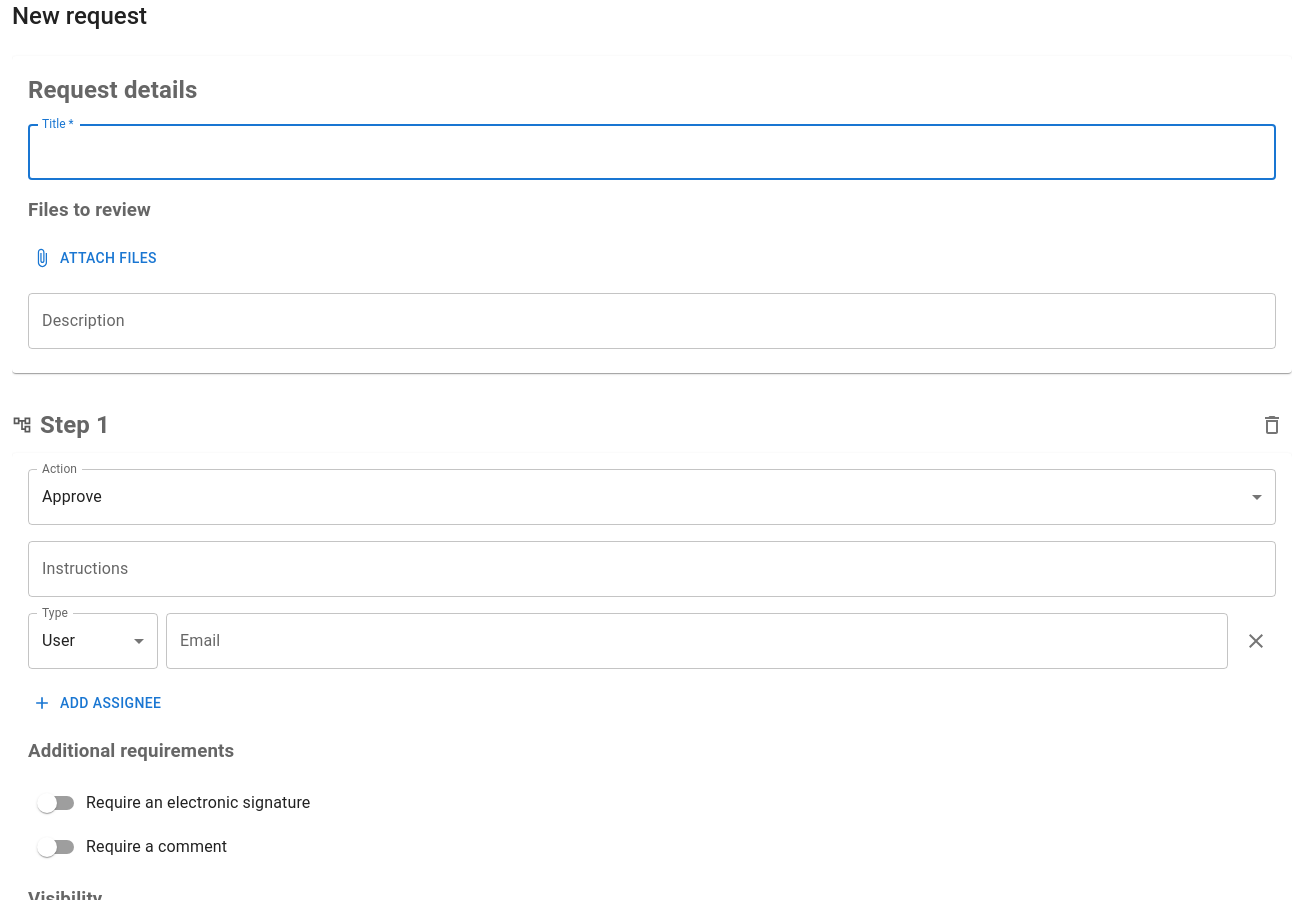
shared templates › custom requests create private templates and show name conflicts beside Title without overwriting
In the field labelled "Title *": {"x": 652, "y": 152} [28,124,1276,180], type "Review workflow"
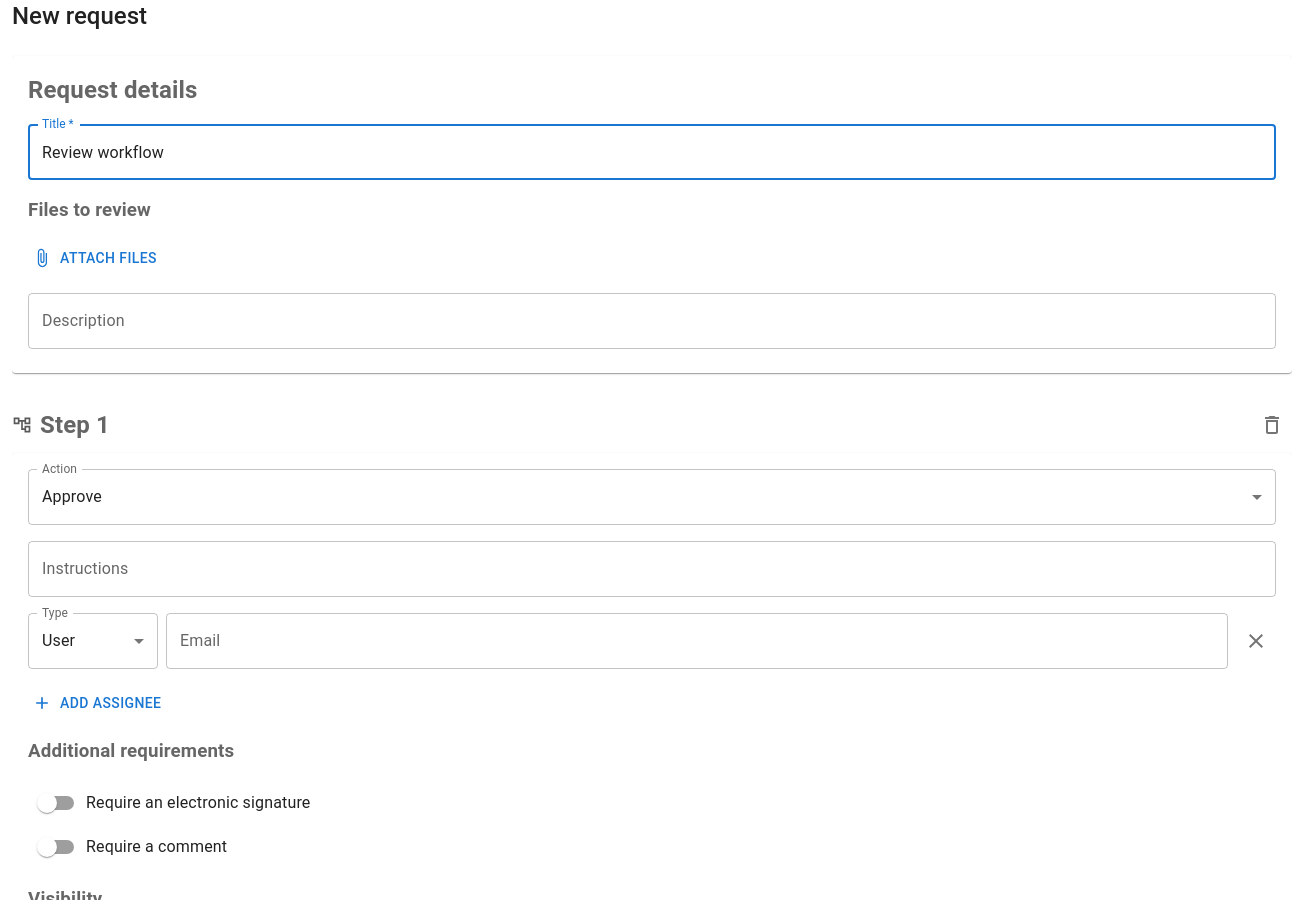
In the field labelled "Email": {"x": 697, "y": 641} [166,613,1228,669], type "reviewer@example.com"
(page scrolled)
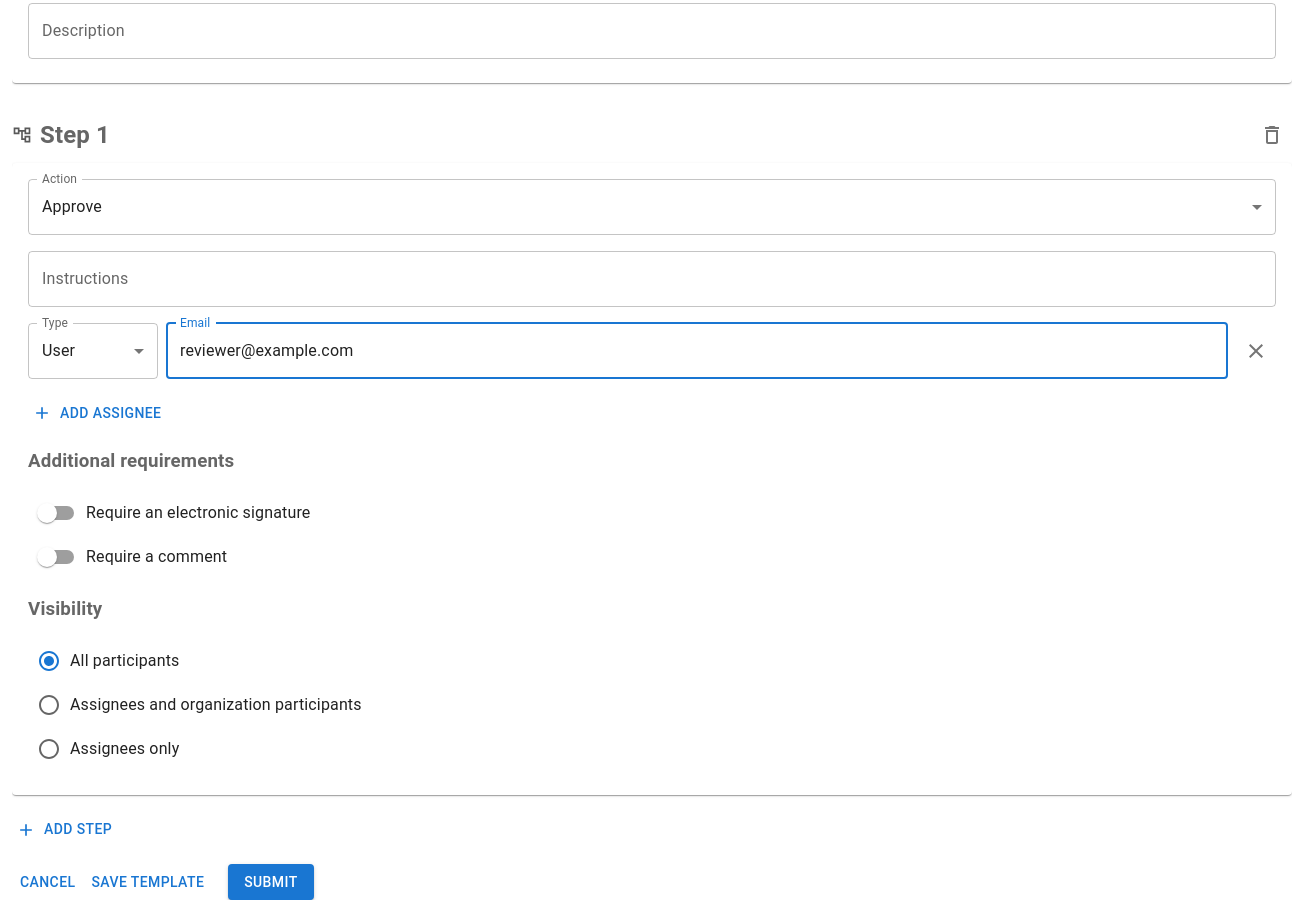
Click the button "Save template": {"x": 148, "y": 882} [84,864,212,899]
(page scrolled)
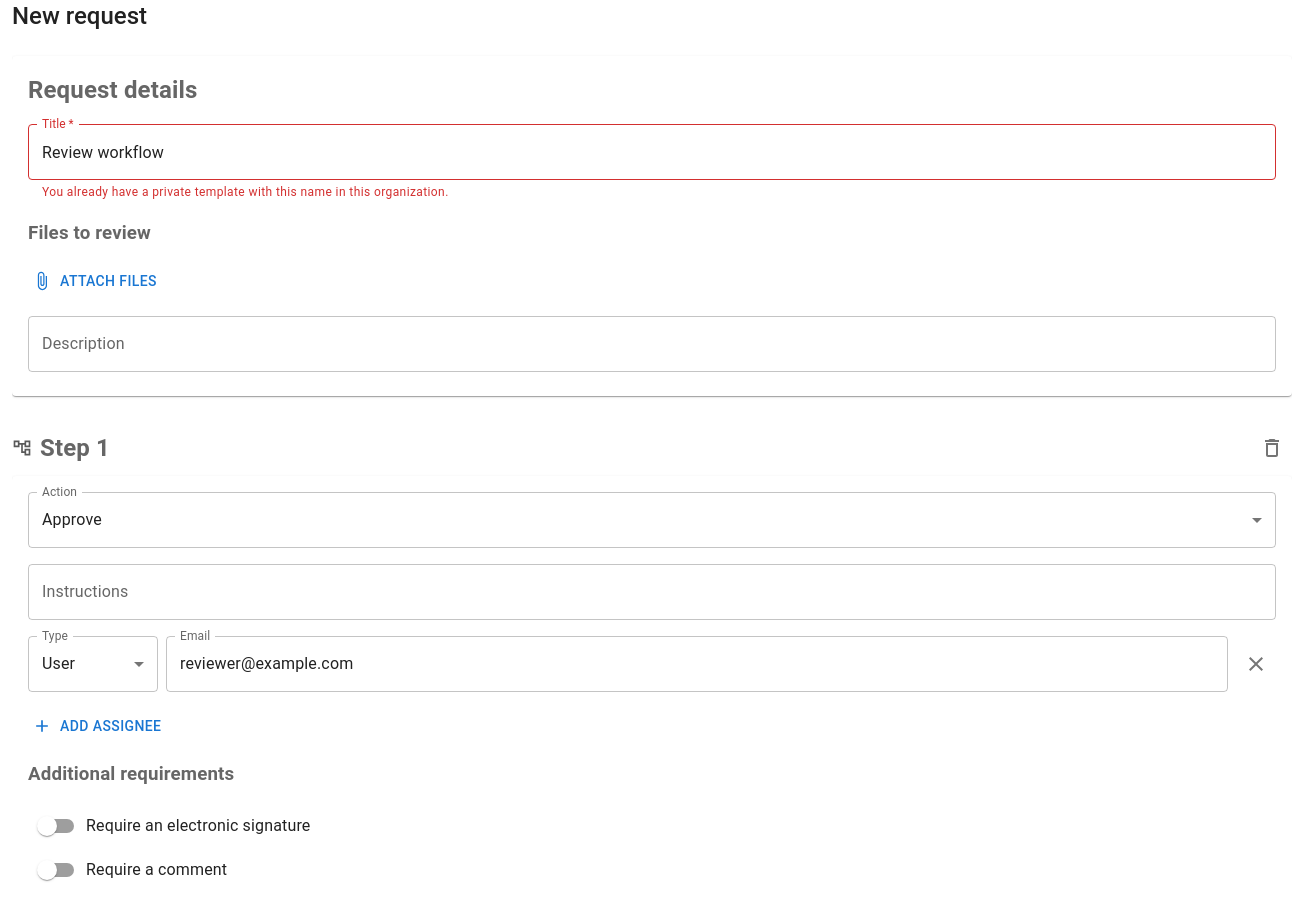
Check: the text "You already have a private template with this name in this organization." is shown, box [42,185,449,199]
In the field labelled "Title *": {"x": 652, "y": 152} [28,124,1276,180], type " revised"
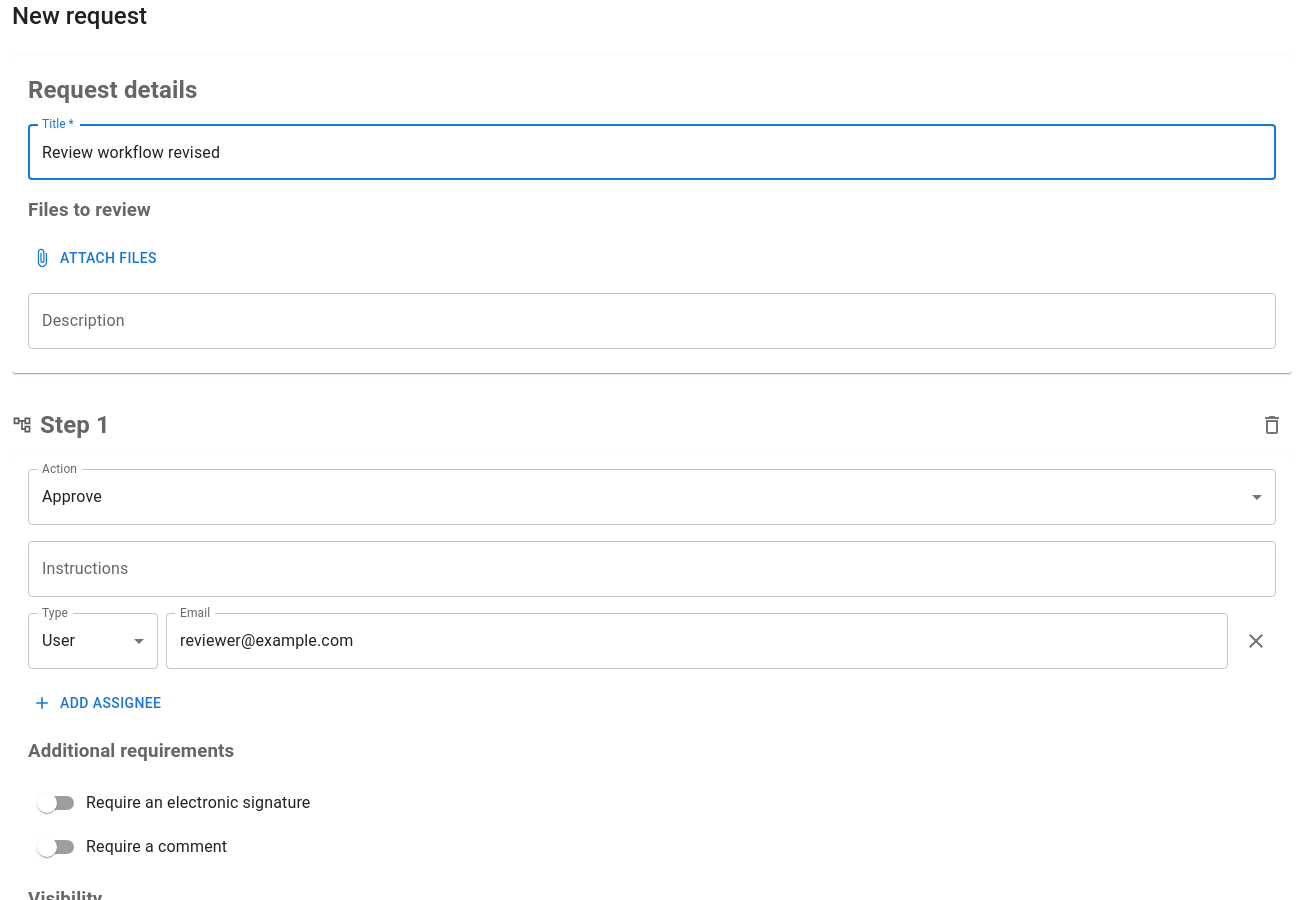
Check: the text "You already have a private template with this name in this organization." is gone
